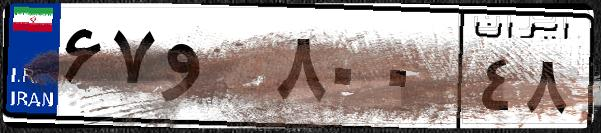0: (385, 28, 445, 110), (330, 28, 385, 110)
4: (475, 38, 525, 113)
6: (57, 26, 110, 100)
7: (110, 28, 158, 98)
8: (270, 28, 330, 110), (525, 38, 570, 115)
و: (158, 20, 270, 120)
